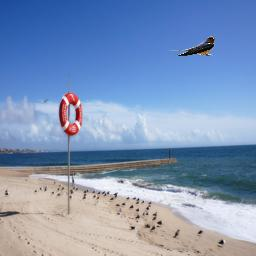Swallow: (168, 36, 215, 56)
